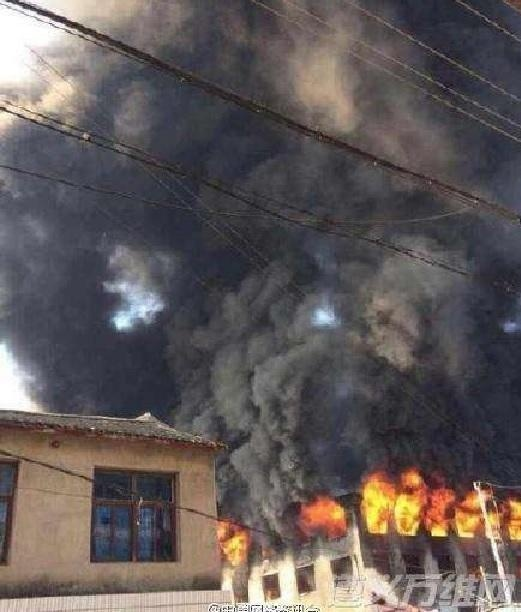fire: (358, 468, 515, 536), (301, 495, 346, 530), (215, 518, 248, 563)
